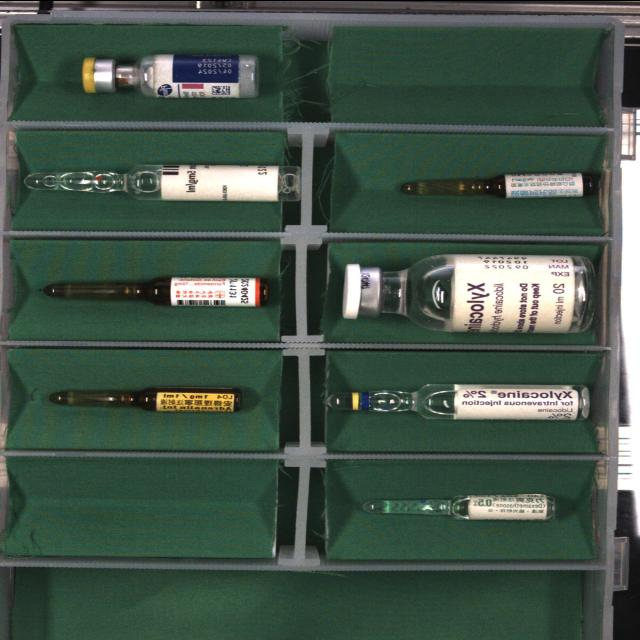Vials: (343, 254, 595, 331), (82, 53, 258, 97)
